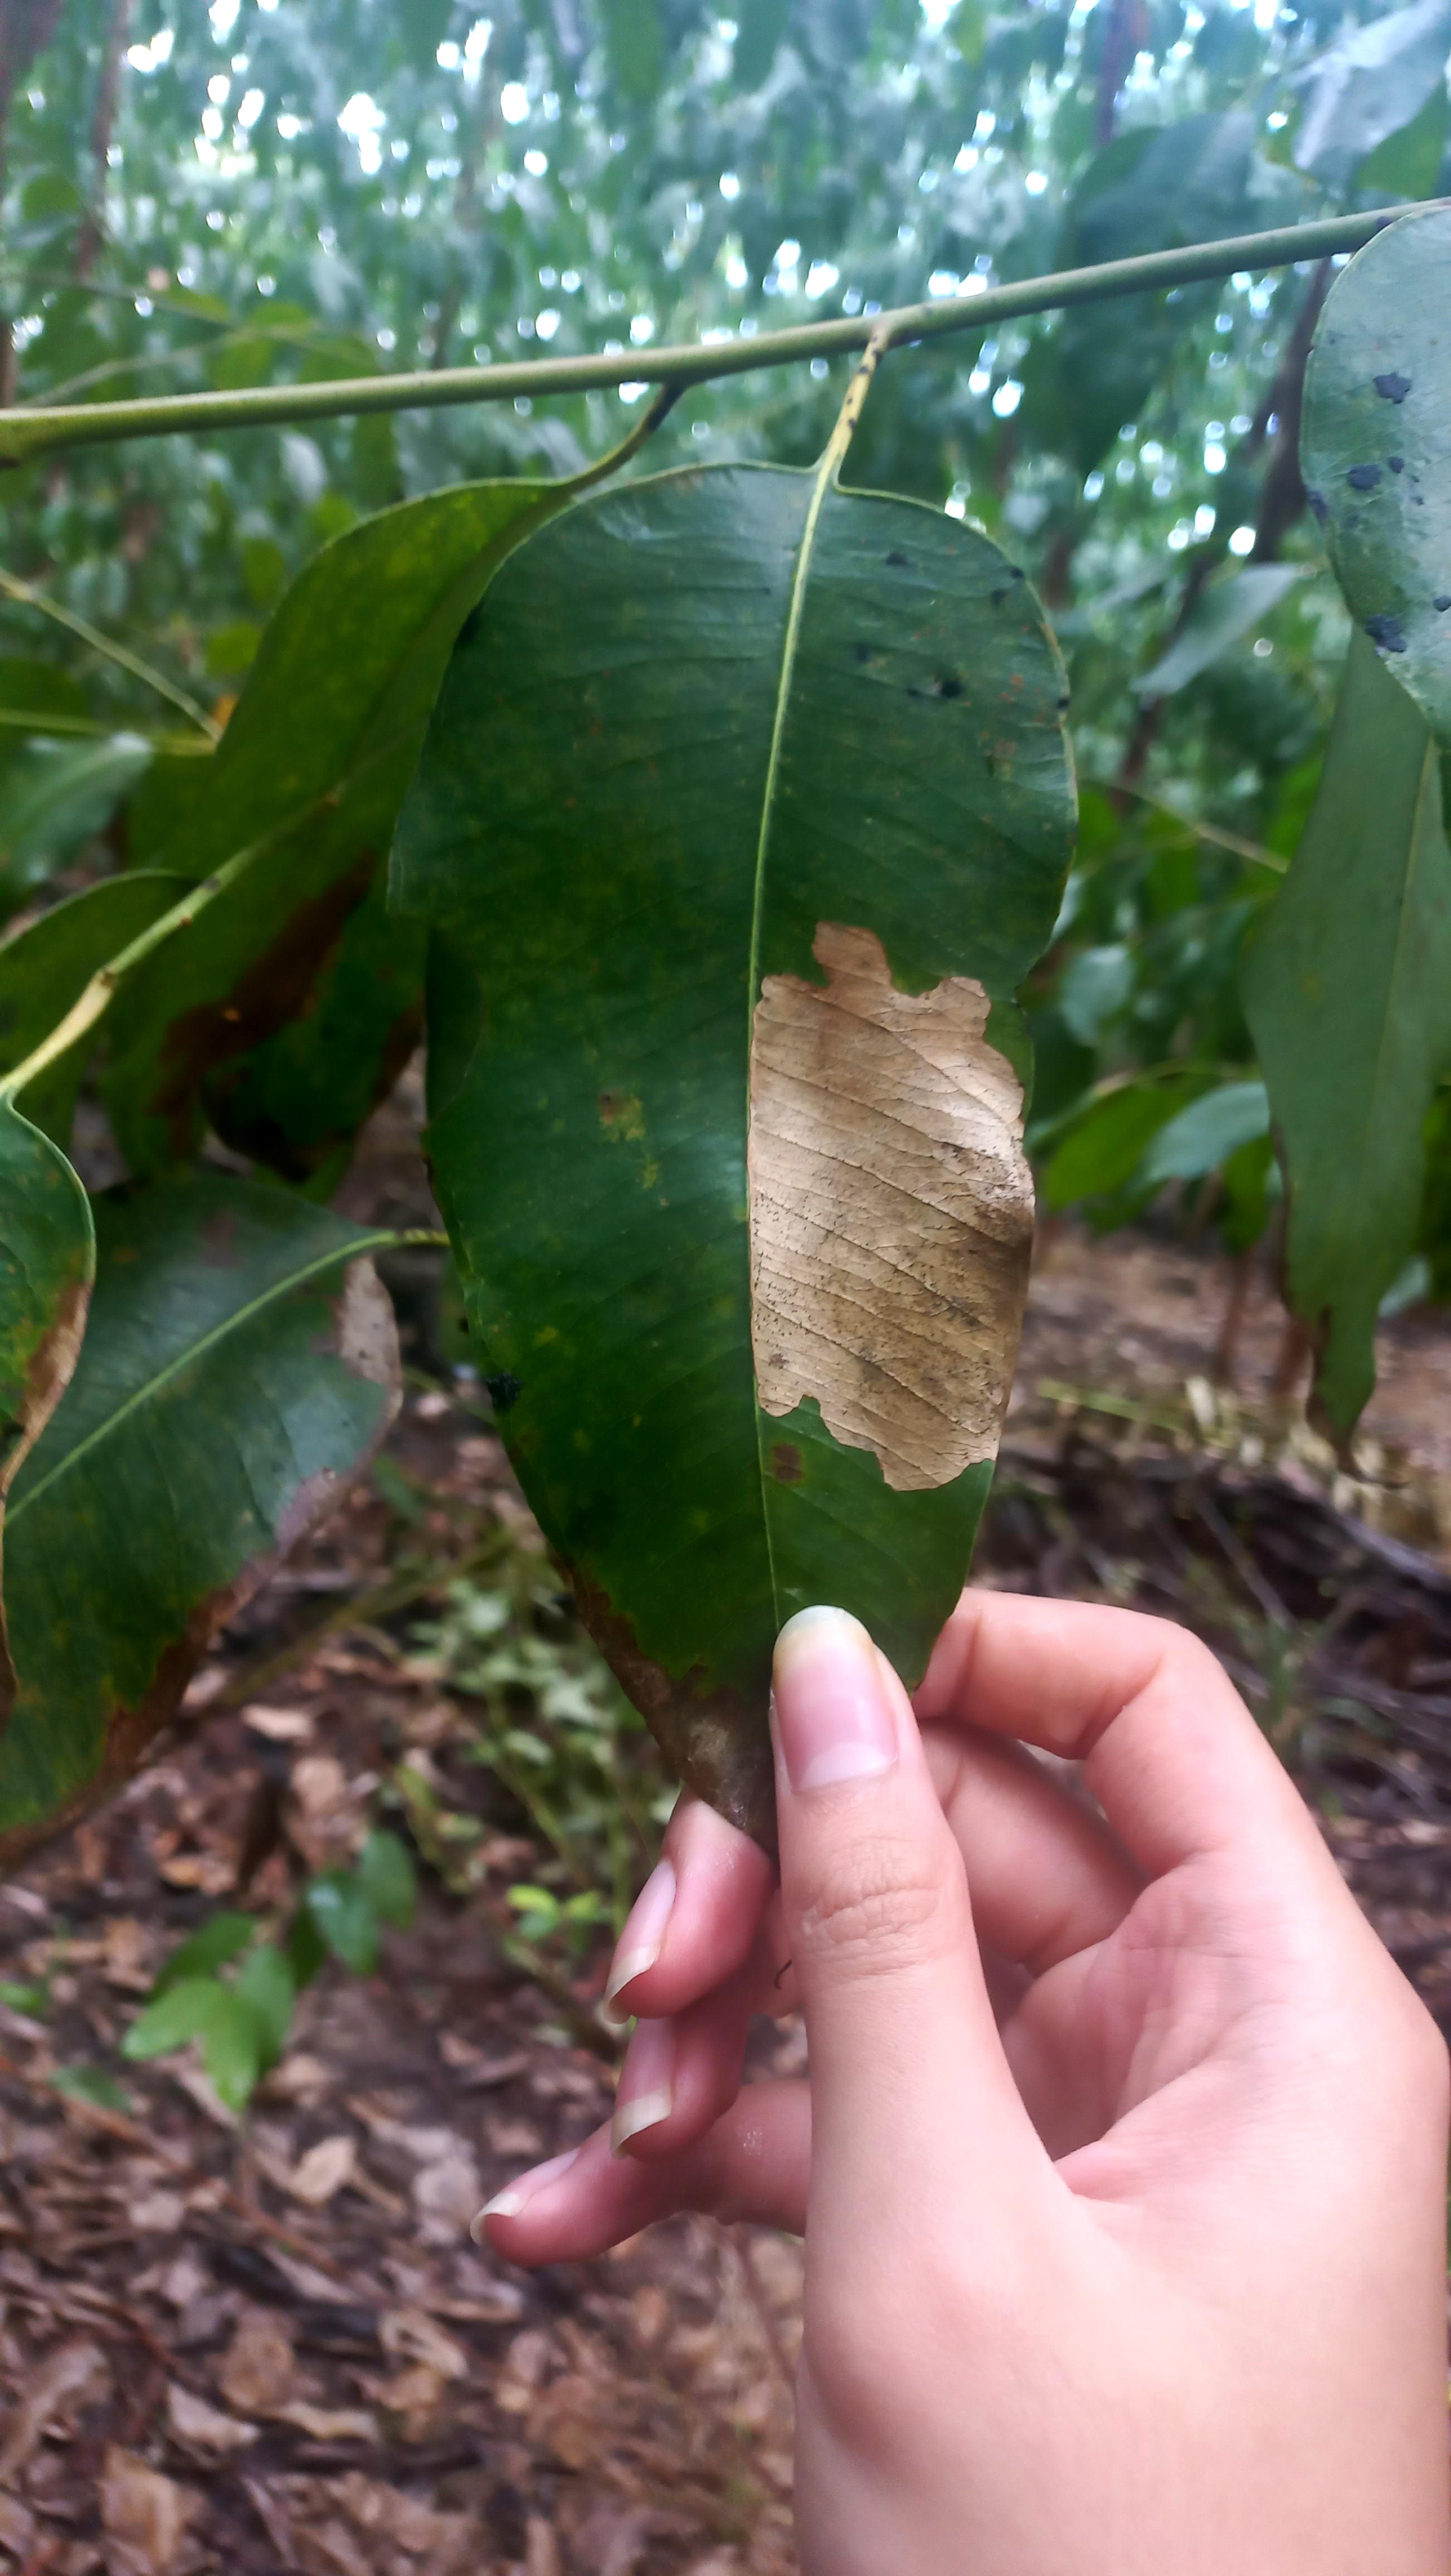Cylindrocladium: (738, 906, 1037, 1504)
